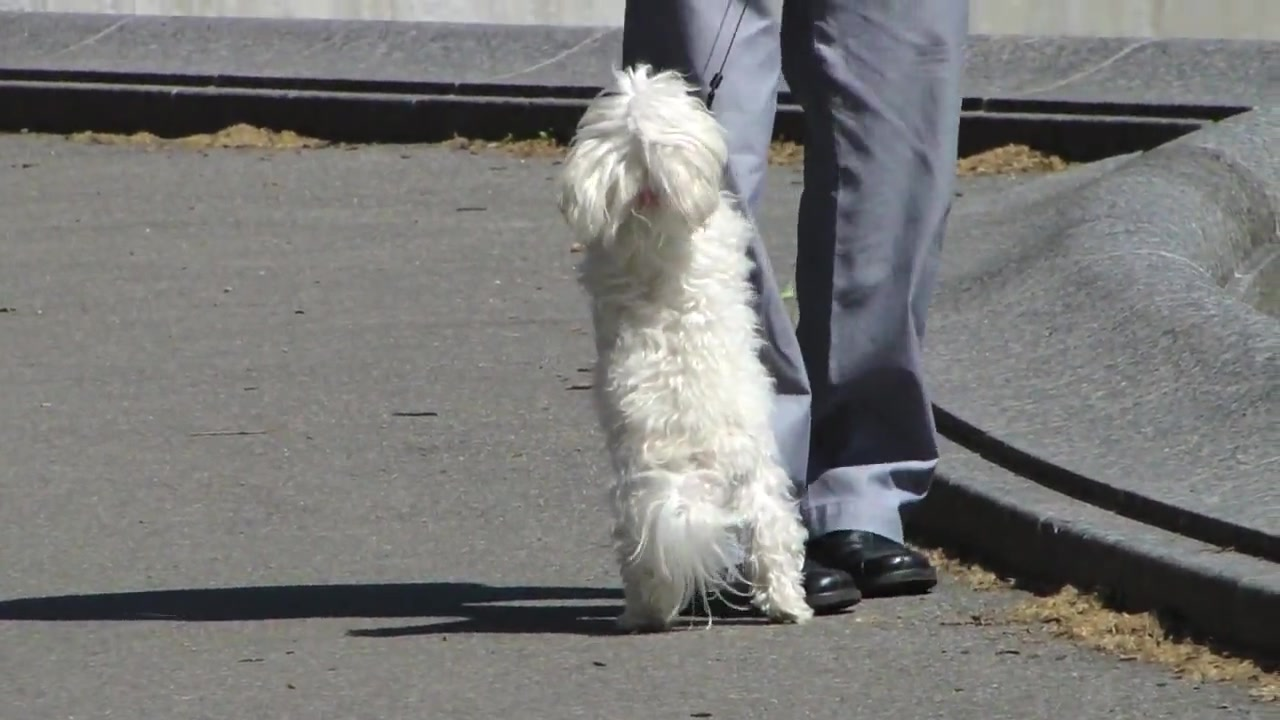dog: (559, 62, 817, 628)
